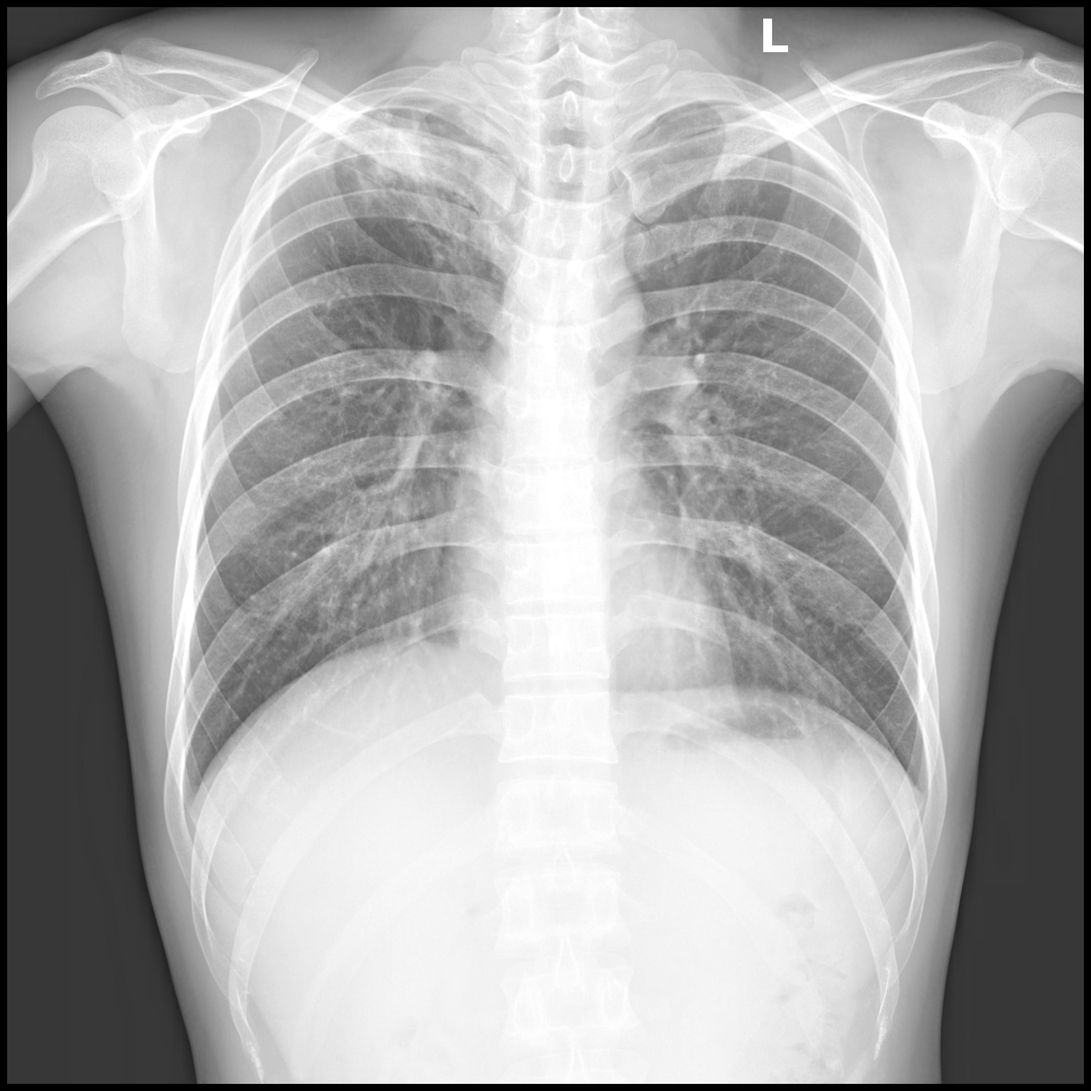Pulmonary fibrosis: (342, 107, 467, 257)
